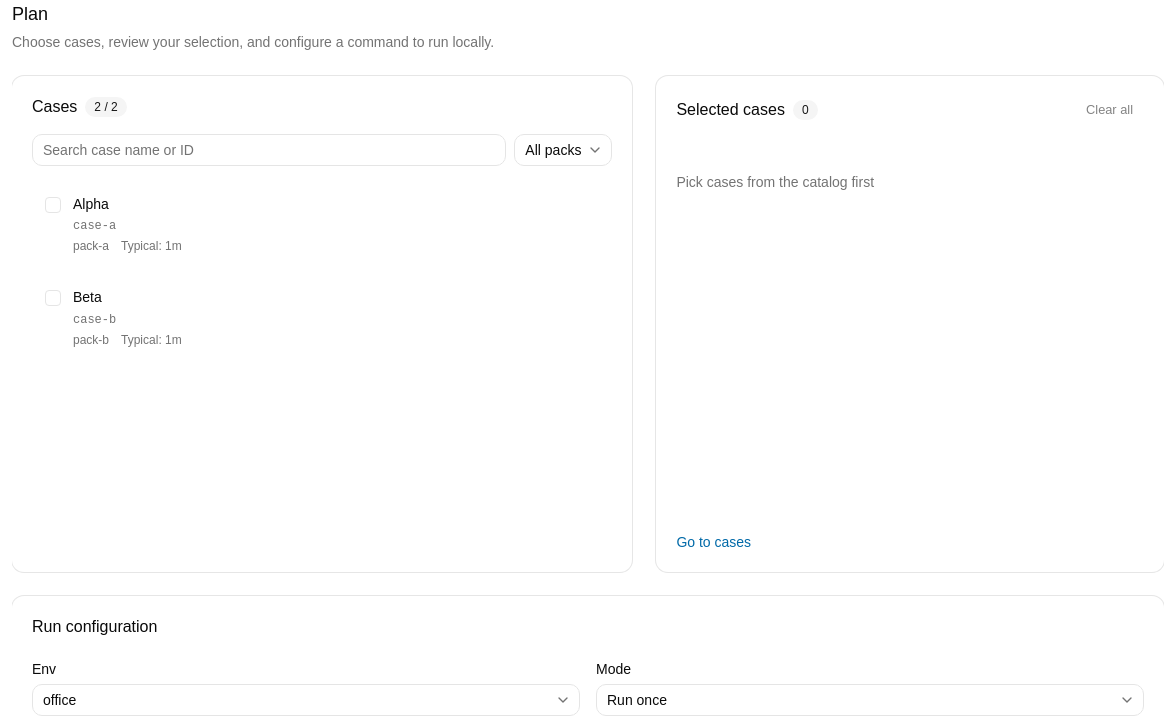
keeps selection when filtering, then synchronizes removal and clear with checkboxes
This screenshot has width=1164, height=720.
Click the checkbox named "case-a" next to "Alpha".
click(53, 205)  # box [45,197,61,213]
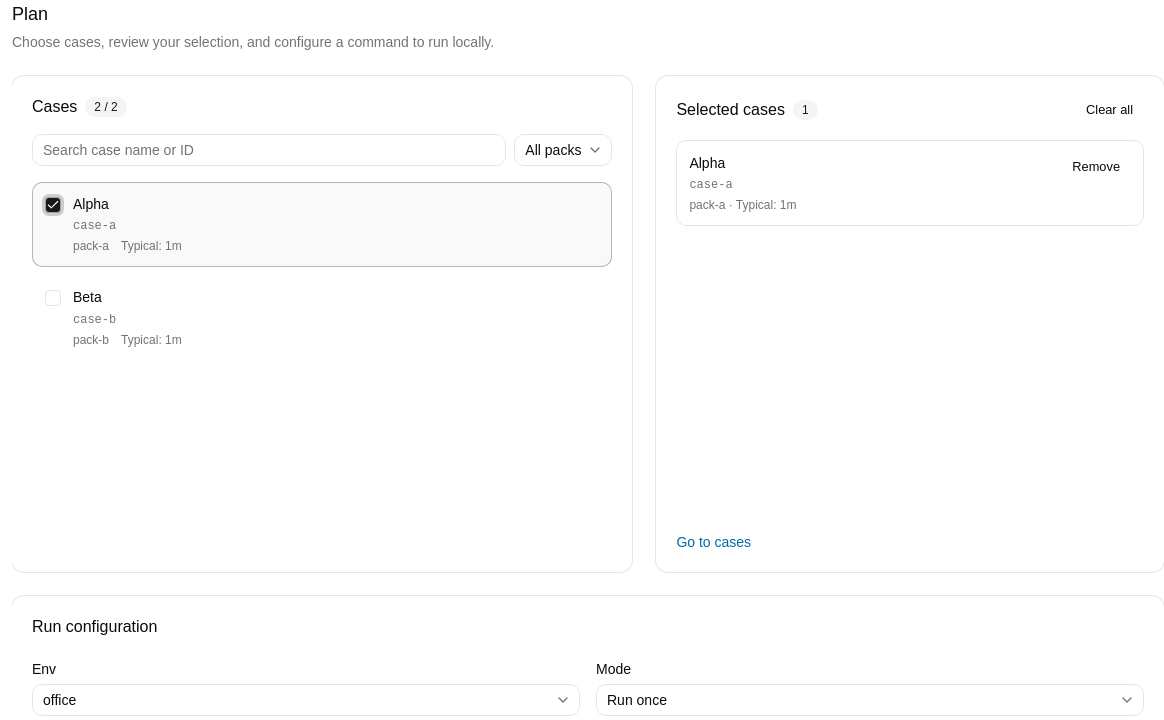
Type "Beta" into the field labelled "Search case name or ID".
click(269, 150); type("Beta")  # box [32,134,506,166]
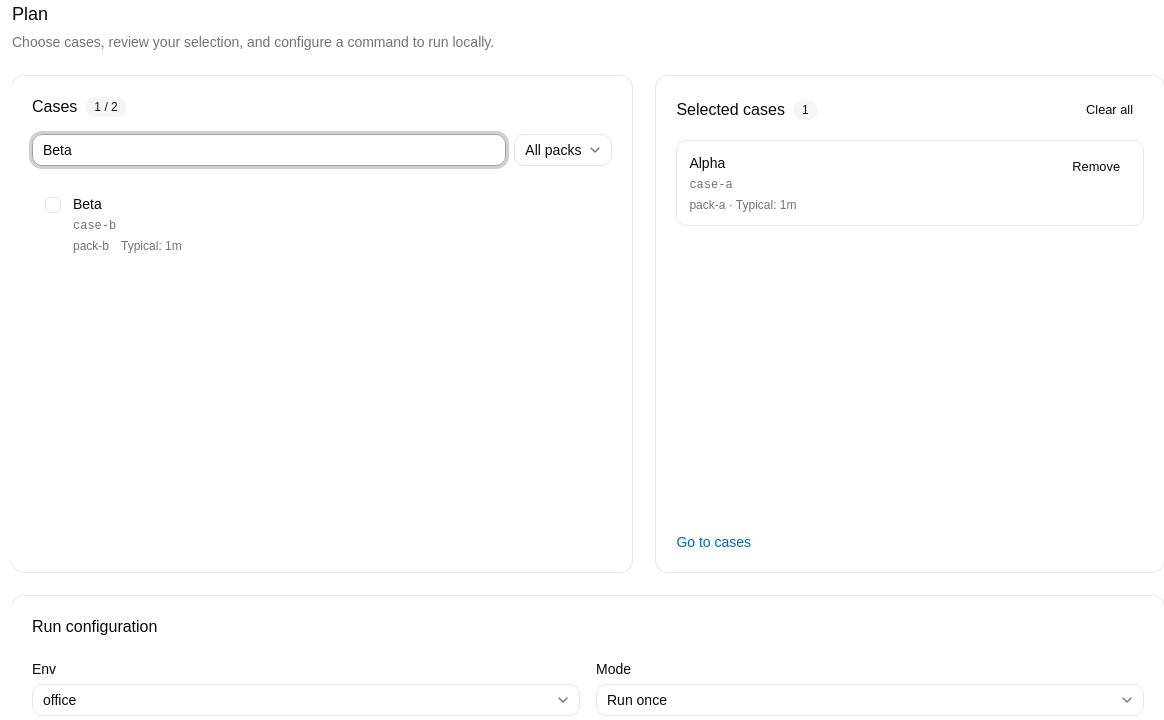
Check: the text "Alpha" is shown, box [689,155,725,171]
Click the checkbox named "case-b".
click(53, 205)  # box [45,197,61,213]
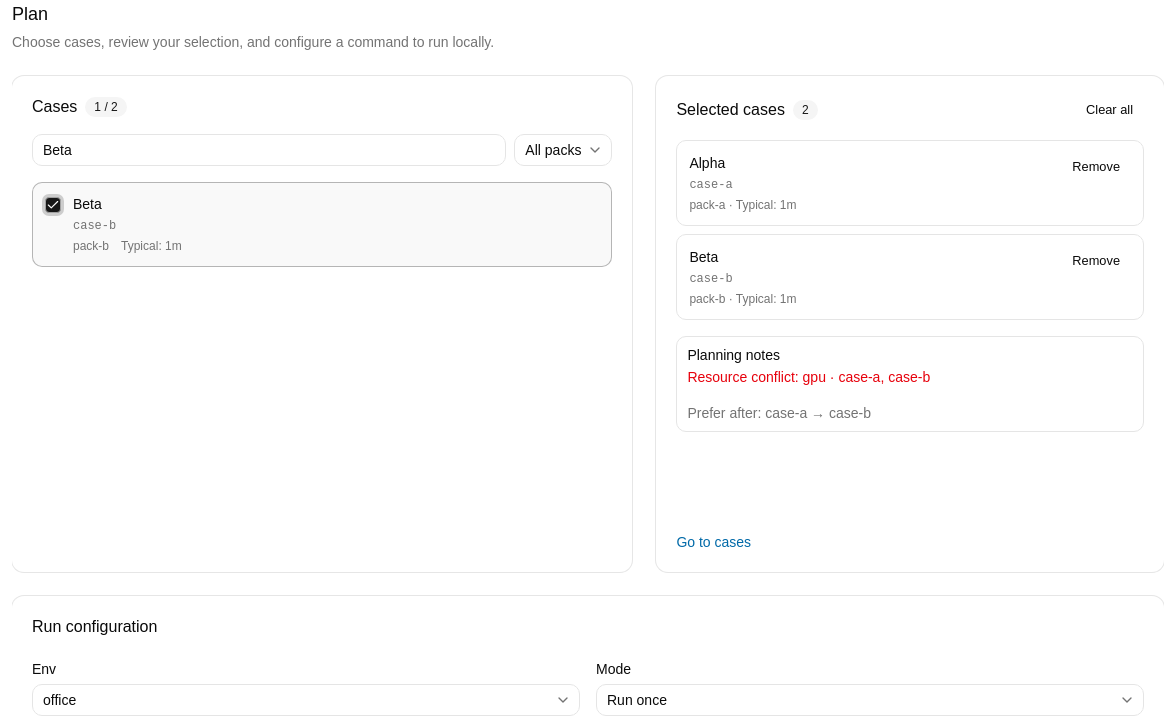
Clear the field named "Search case name or ID" at (269, 150), box [32,134,506,166]
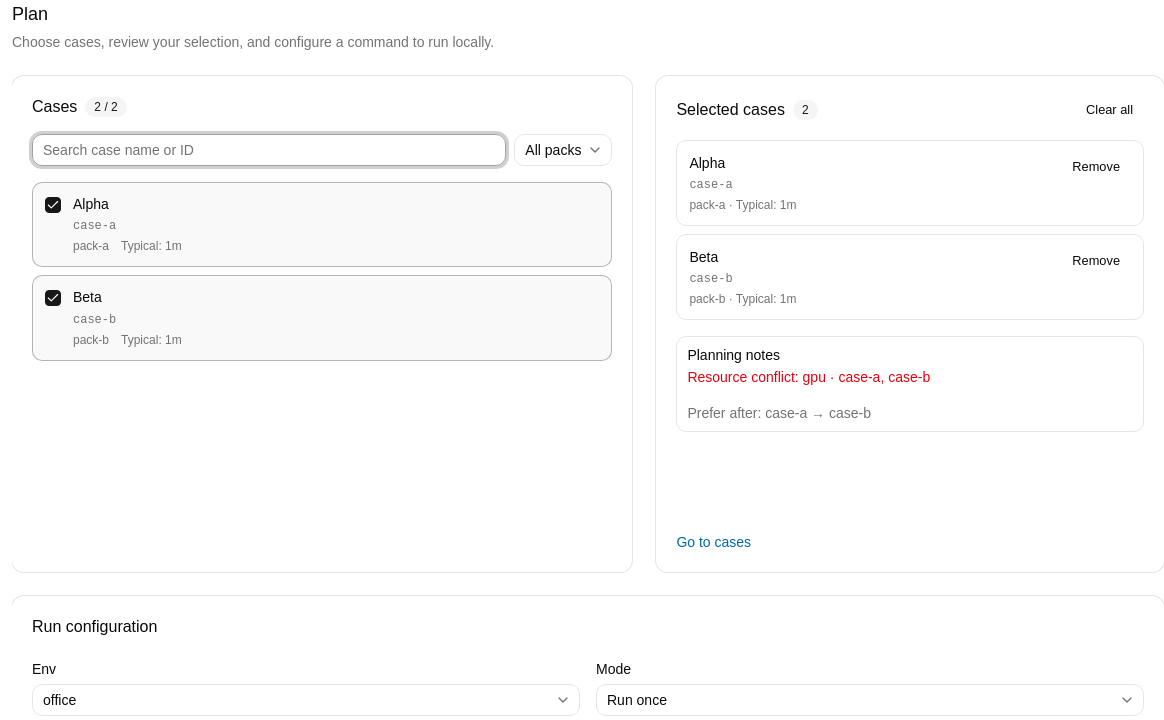
Click the 1st button "Remove".
click(1096, 167)  # box [1061,153,1131,181]
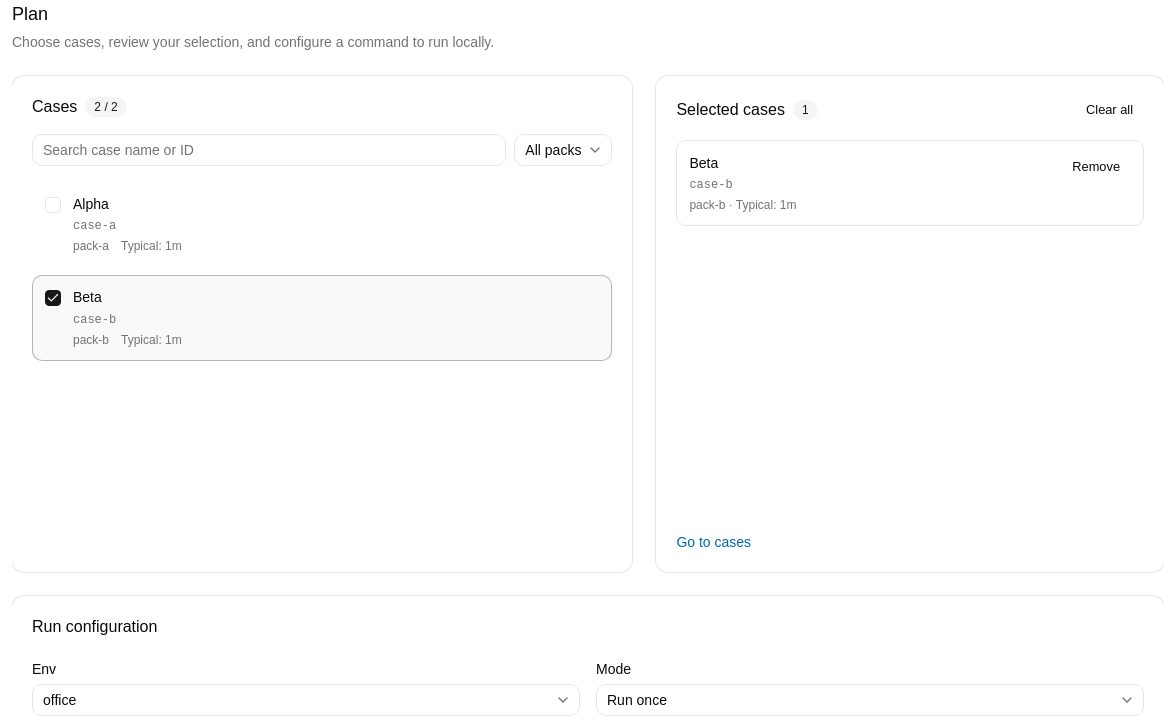
Check: the checkbox named "case-a" next to "Alpha" is not checked, box [45,197,61,213]
Click the button "Clear all".
click(1110, 110)  # box [1075,96,1144,124]
(page scrolled)
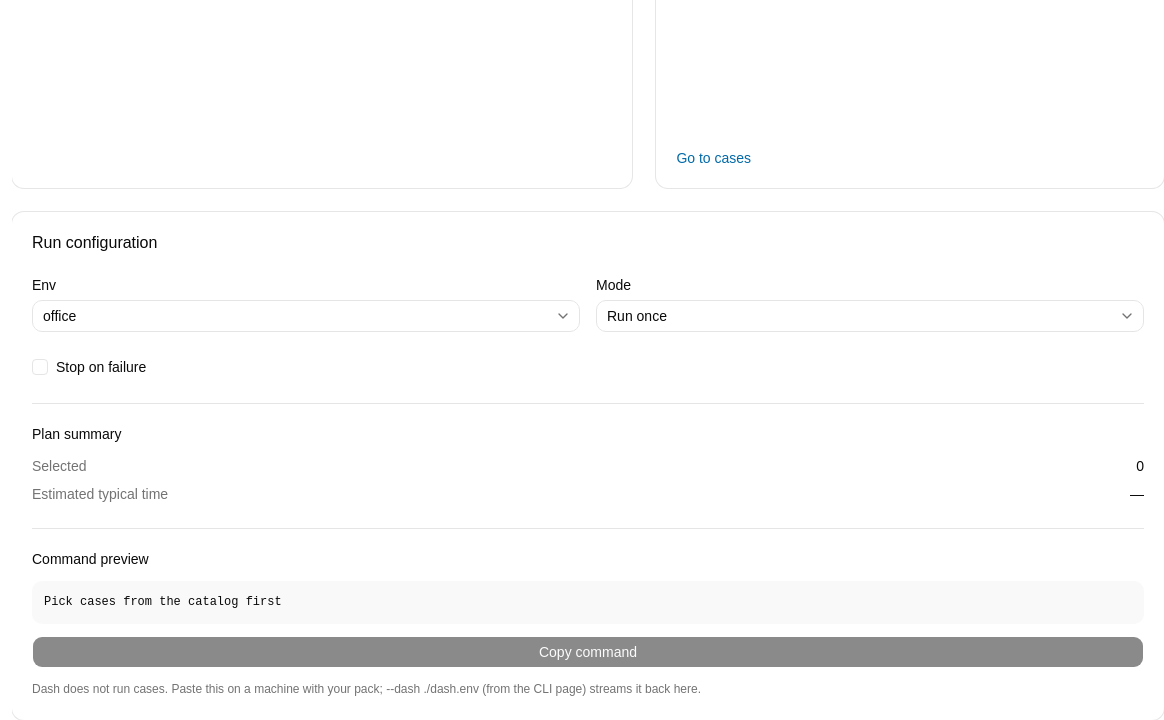
Check: the button "Copy command" is disabled, box [32,636,1144,668]
